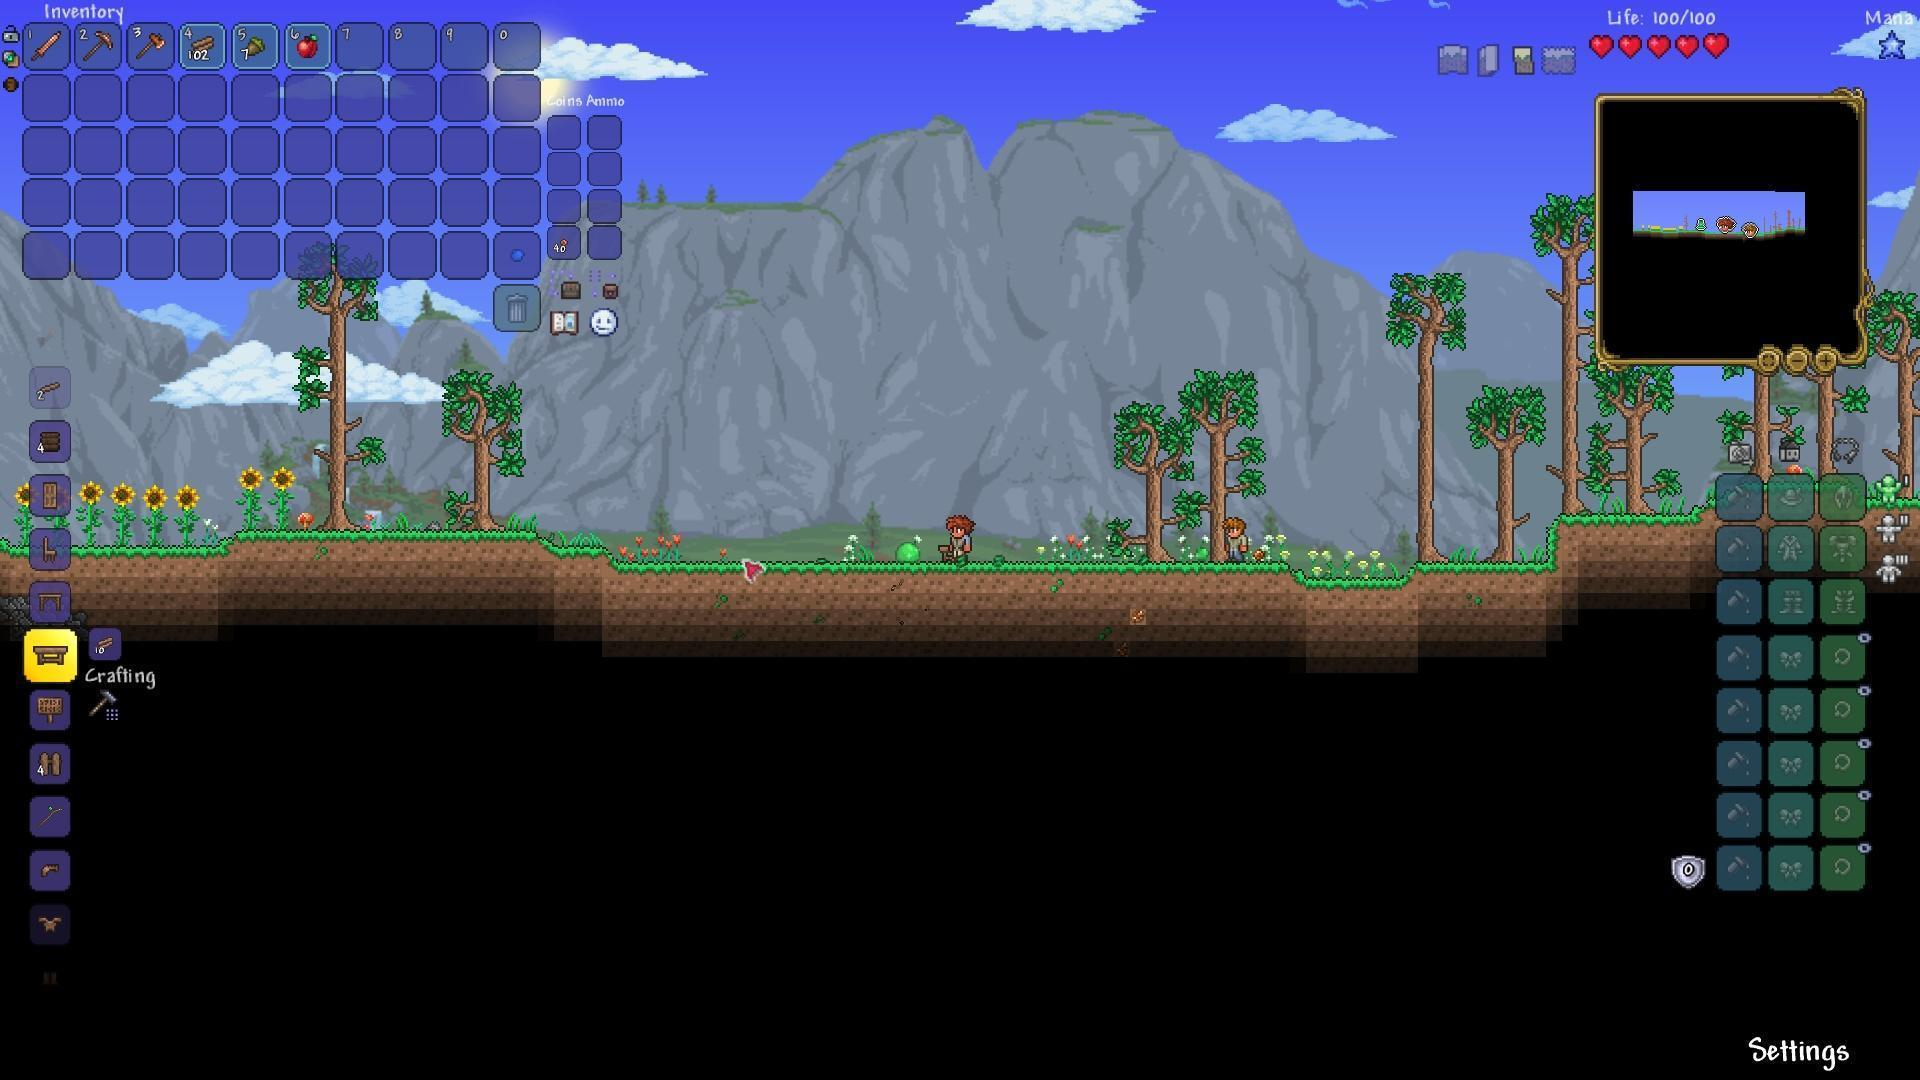breastplate: (36, 914, 66, 935)
helmet: (36, 858, 63, 884)
slime: (894, 539, 924, 564)
wood: (189, 34, 215, 59), (92, 632, 119, 657)
workbench: (34, 642, 65, 669)
